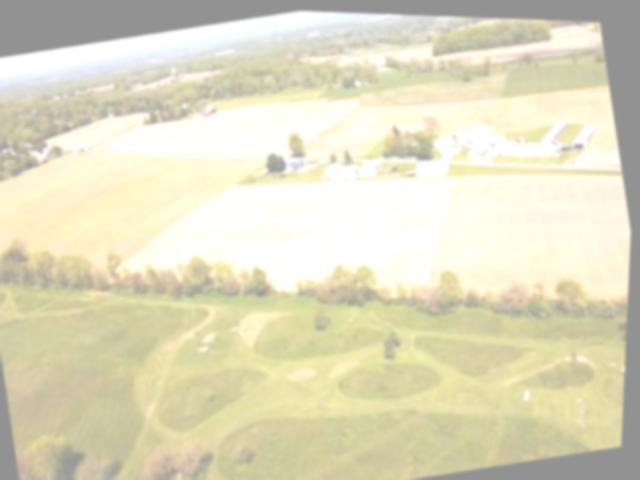uav: (259, 204, 363, 275)
